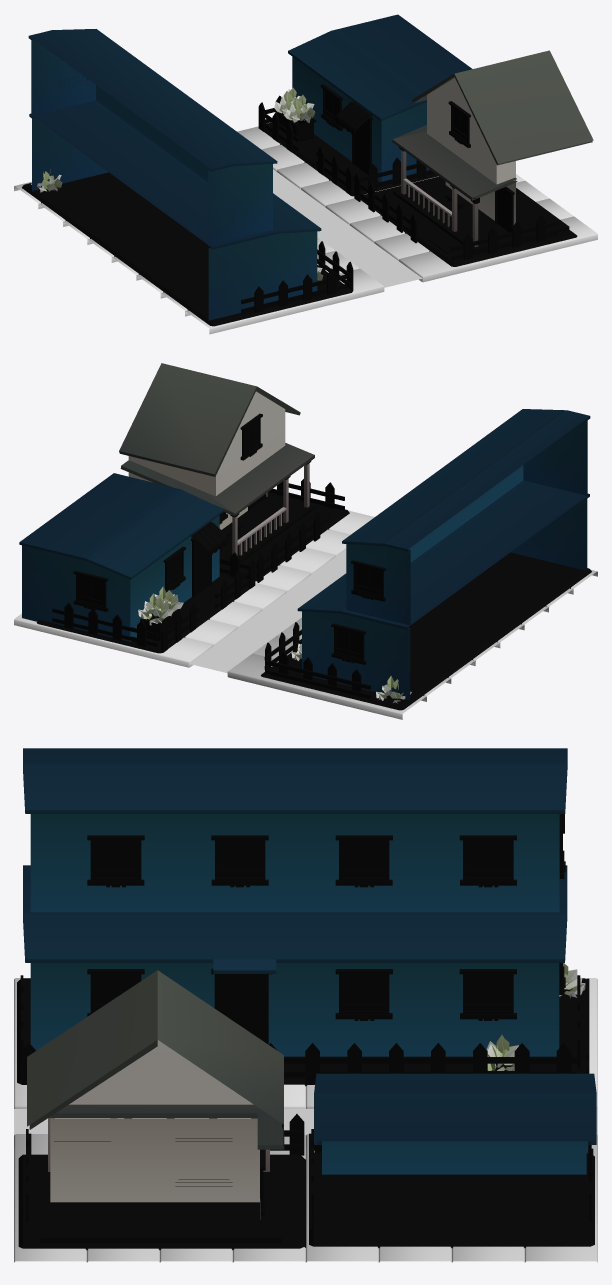
The model's file is SM_ER_module13.fbx.
3 views of the same model, one above another, from view 1: azimuth 30°, elevation 25°; view 2: azimuth 150°, elevation 25°; view 3: azimuth 270°, elevation 25° (orthographic). The views are drawn at different scales.
Visible parts, largest first — view 1: SM_ER_module13_walls, SM_ER_floor1, SM_ER_floor; view 2: SM_ER_module13_walls, SM_ER_floor, SM_ER_floor1; view 3: SM_ER_module13_walls, SM_ER_floor1, SM_ER_floor.
Part boxes in pixels (<box>): SM_ER_module13_walls: <box>22,14,593,326</box>; SM_ER_floor1: <box>112,174,597,334</box>; SM_ER_floor: <box>14,126,438,262</box>; SM_ER_module13_walls: <box>19,363,591,710</box>; SM_ER_floor: <box>14,583,499,719</box>; SM_ER_floor1: <box>255,510,597,648</box>; SM_ER_module13_walls: <box>17,748,596,1250</box>; SM_ER_floor1: <box>14,978,305,1262</box>; SM_ER_floor: <box>306,978,597,1262</box>.
Bounding box in the file's own units: 4128 × 1656 × 3596.
